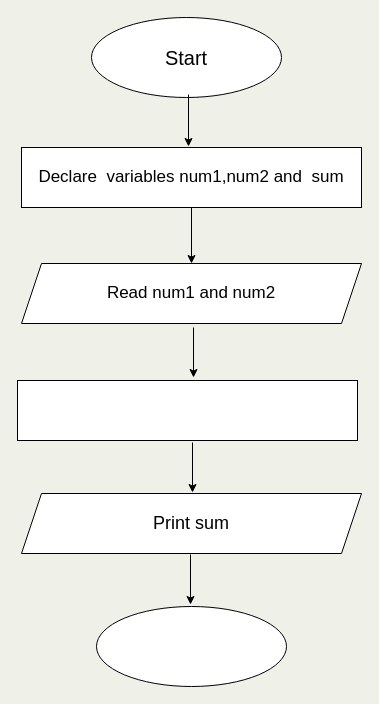
Image size: 379x704. Some labels were removed from this diagram. The shapes that lost their labels are listed below. From the top down, each one's box as (x1, y1, x2, y2) in pixels, then its label:
(16, 380, 358, 440): Add num1,num2 and assign value to sum Sum=num1+num2
(96, 606, 286, 686): Stop
